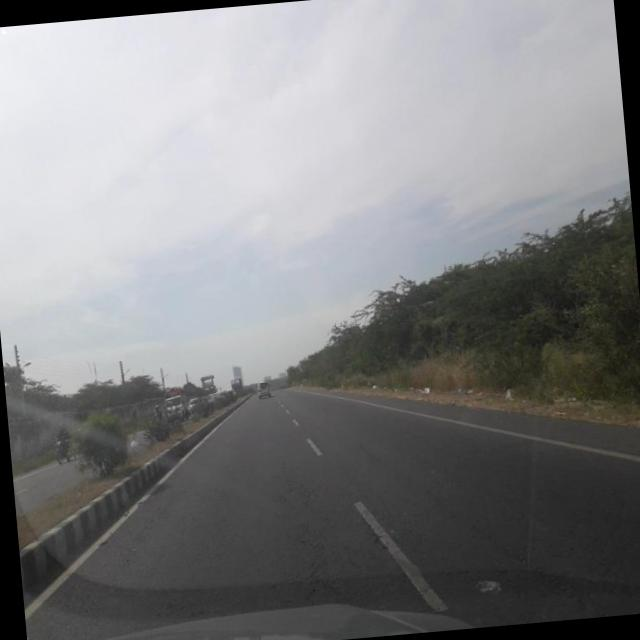crack: (262, 458, 349, 611)
